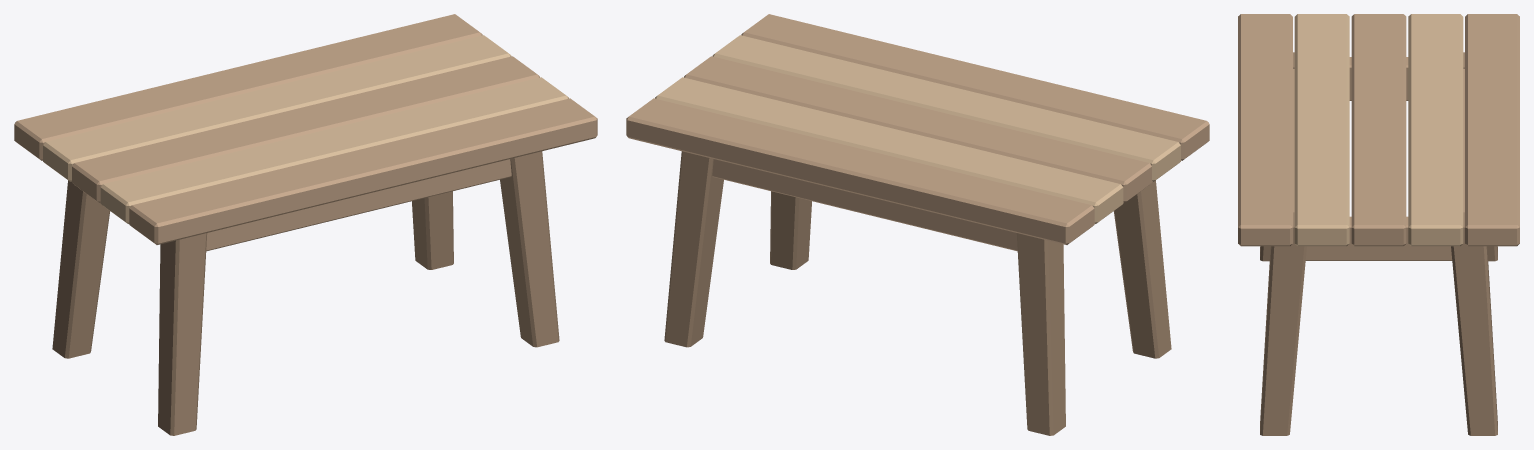
Rendered from table.glb.
3 renders of one model, left to right at view 1: azimuth 30°, elevation 25°; view 2: azimuth 150°, elevation 25°; view 3: azimuth 270°, elevation 25°, orthographic.
Parts seen in each view (by area): view 1: table_top_plank, table_top_plank.001, table_top_plank.004, table_top_plank.003, table_top_plank.002, table_splayed_leg, table_splayed_leg.002, table_splayed_leg.001, table_long_apron, table_splayed_leg.003; view 2: table_top_plank.004, table_top_plank.003, table_top_plank, table_top_plank.001, table_top_plank.002, table_splayed_leg.001, table_splayed_leg.003, table_splayed_leg, table_long_apron.001, table_splayed_leg.002; view 3: table_top_plank.002, table_top_plank.001, table_top_plank.003, table_top_plank, table_top_plank.004, table_splayed_leg.002, table_splayed_leg.003, table_end_apron.001, table_long_apron, table_long_apron.001.
Part boxes in pixels (x1,y1,x2,y2): table_top_plank: (129, 98, 597, 244); table_top_plank.001: (100, 77, 568, 223); table_top_plank.004: (14, 14, 482, 160); table_top_plank.003: (43, 35, 511, 181); table_top_plank.002: (72, 56, 539, 202); table_splayed_leg: (158, 233, 207, 435); table_splayed_leg.002: (500, 151, 559, 347); table_splayed_leg.001: (52, 180, 110, 358); table_long_apron: (206, 159, 511, 251); table_splayed_leg.003: (412, 191, 453, 269); table_top_plank.004: (626, 98, 1094, 244); table_top_plank.003: (655, 77, 1123, 223); table_top_plank: (741, 14, 1209, 160); table_top_plank.001: (712, 35, 1180, 181); table_top_plank.002: (684, 56, 1151, 202); table_splayed_leg.001: (1016, 233, 1065, 435); table_splayed_leg.003: (664, 151, 723, 347); table_splayed_leg: (1113, 180, 1171, 358); table_long_apron.001: (712, 159, 1017, 251); table_splayed_leg.002: (770, 191, 811, 269); table_top_plank.002: (1351, 14, 1406, 246); table_top_plank.001: (1294, 14, 1349, 246); table_top_plank.003: (1408, 14, 1463, 246); table_top_plank: (1238, 14, 1292, 246); table_top_plank.004: (1465, 14, 1519, 246); table_splayed_leg.002: (1260, 212, 1306, 435); table_splayed_leg.003: (1451, 212, 1497, 435); table_end_apron.001: (1305, 216, 1452, 260); table_long_apron: (1293, 68, 1294, 212); table_long_apron.001: (1463, 68, 1464, 212).
Size of the model in its own units: 1.6 by 0.78 by 0.894.
